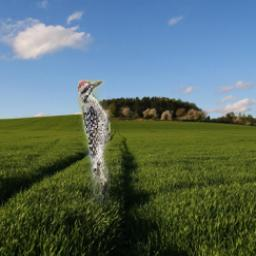Woodpecker: (77, 79, 110, 203)
